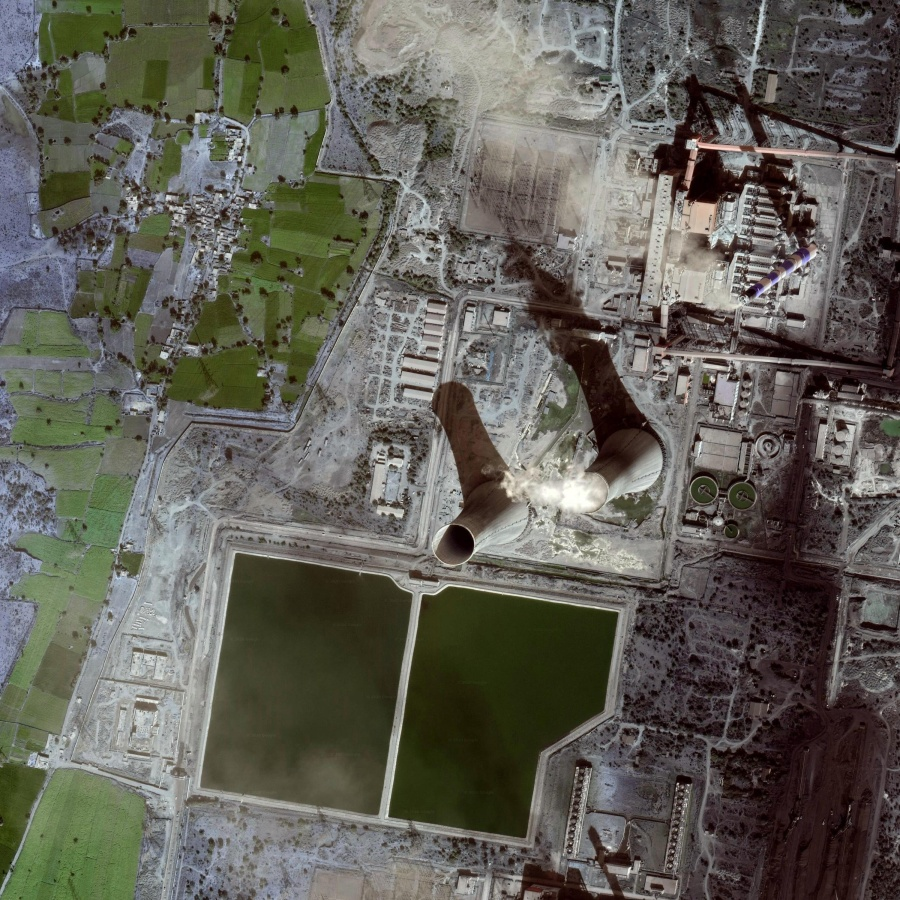PowerPlant: (187, 548, 626, 856)
